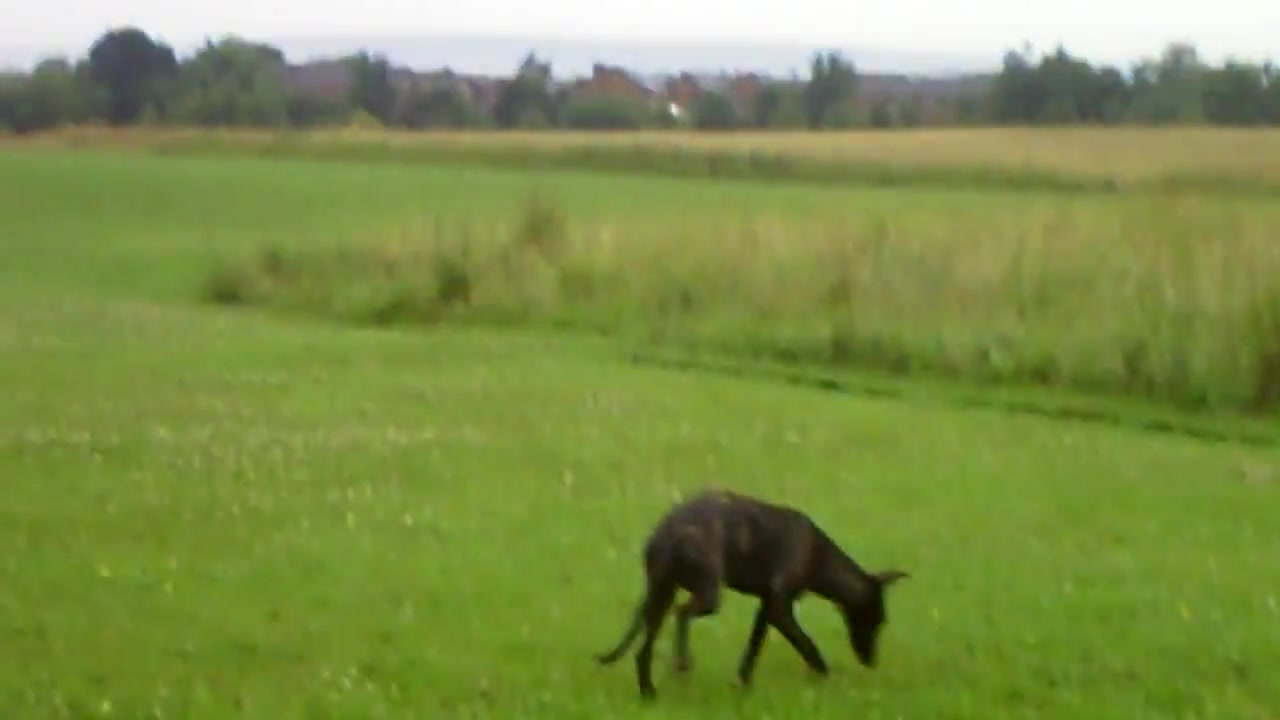dog: (593, 492, 910, 703)
